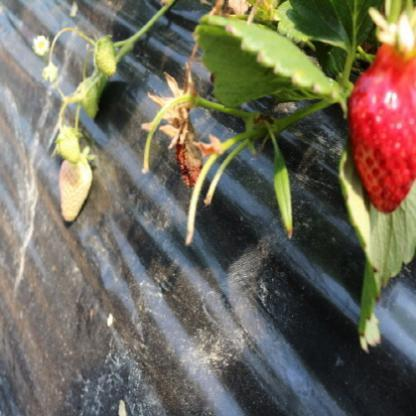Strawberry_Gray_Mold: (146, 65, 204, 190), (57, 150, 94, 224)
